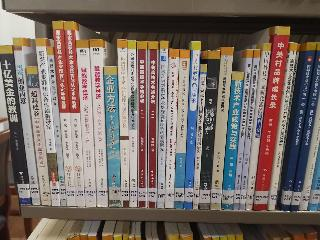book-spine: (277, 42, 318, 213), (254, 25, 290, 211), (266, 42, 297, 211), (0, 43, 32, 206), (12, 38, 42, 207), (290, 43, 320, 212), (52, 21, 77, 208), (208, 45, 235, 211), (246, 43, 272, 210), (35, 37, 60, 208), (63, 21, 85, 208), (24, 65, 52, 207), (237, 49, 261, 211), (219, 70, 246, 211), (231, 49, 254, 211), (75, 39, 97, 207), (198, 49, 221, 209), (88, 39, 109, 207), (182, 41, 202, 210), (46, 47, 67, 207), (142, 40, 162, 208), (161, 49, 181, 209), (172, 50, 190, 209), (103, 68, 122, 207), (190, 64, 208, 210), (155, 40, 170, 209), (135, 41, 148, 208), (117, 39, 129, 208), (126, 41, 138, 208)
